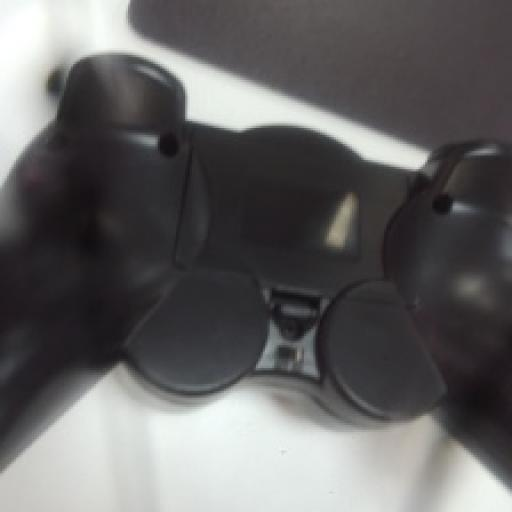game pad: (2, 55, 510, 478)
